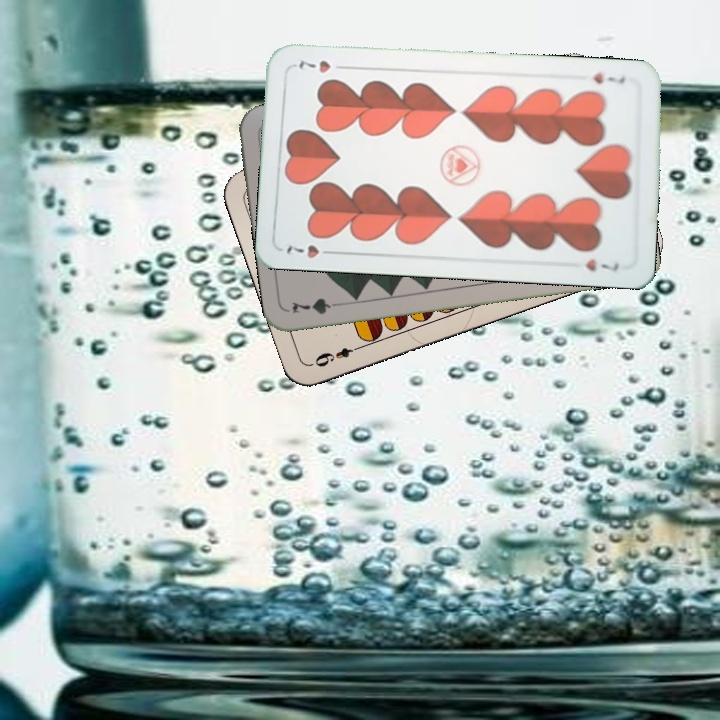E9: (308, 341, 365, 370)
G7: (288, 294, 347, 317)
H7: (283, 241, 339, 261), (589, 69, 628, 87)
